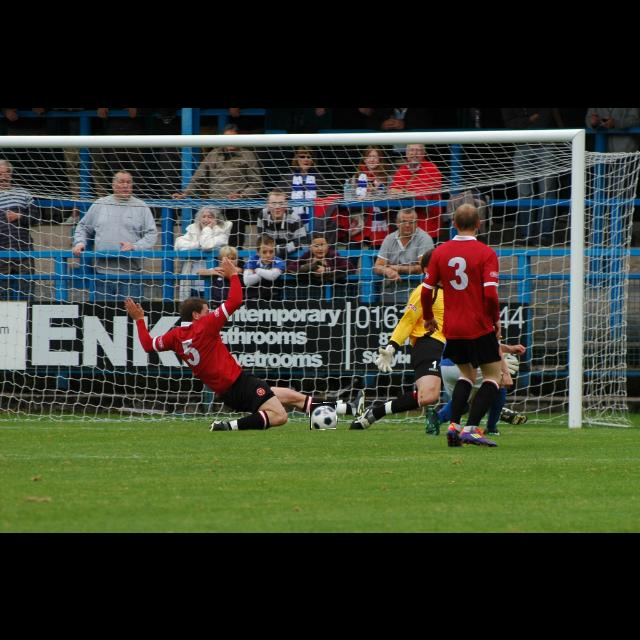Football: (310, 402, 336, 430)
